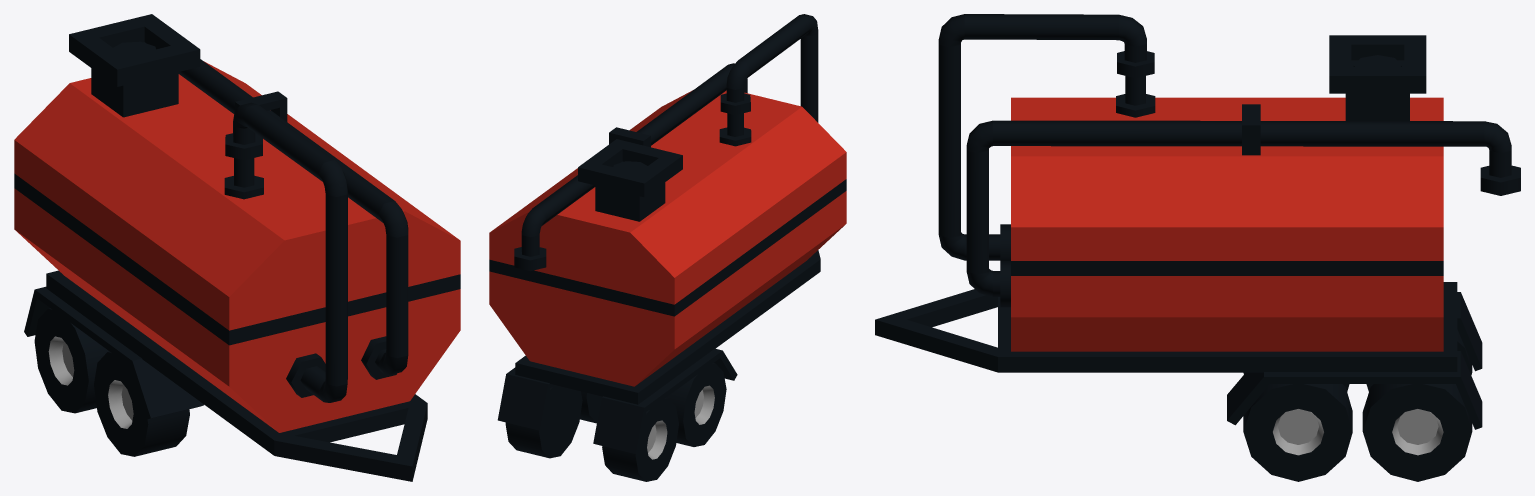
The model's file is Agricultural_Machine_3_2.fbx.
The picture shows the model from 3 angles, left to right: view 1: azimuth 30°, elevation 25°; view 2: azimuth 150°, elevation 25°; view 3: azimuth 270°, elevation 25°; orthographic projection. The views are drawn at different scales.
Parts seen in each view (by area): view 1: Agricultural_Machine_3_2; view 2: Agricultural_Machine_3_2; view 3: Agricultural_Machine_3_2.
Boxes of the visible parts, x1,y1,x2,y2 form: Agricultural_Machine_3_2: [14, 14, 460, 481]; Agricultural_Machine_3_2: [489, 14, 846, 481]; Agricultural_Machine_3_2: [875, 14, 1520, 481].
Bounding box in the file's own units: 80.04 × 133 × 192.
